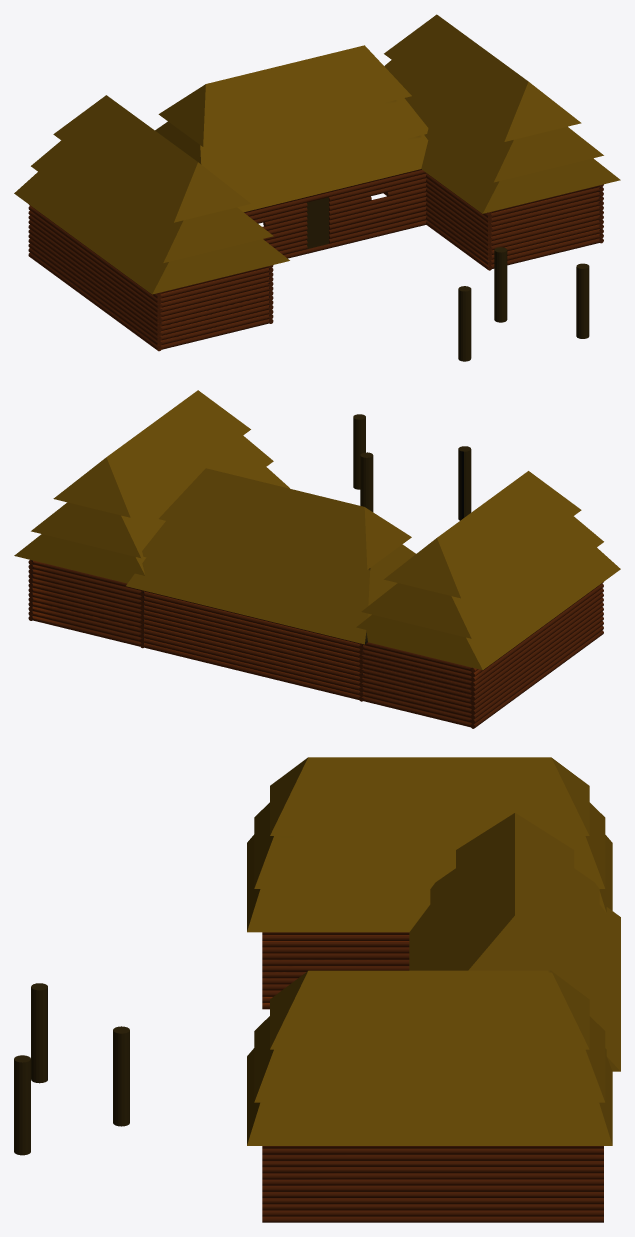
The model's file is barracks.fbx.
3 views of the same model, one above another, from view 1: azimuth 30°, elevation 25°; view 2: azimuth 150°, elevation 25°; view 3: azimuth 270°, elevation 25° (orthographic). The views are drawn at different scales.
Parts seen in each view (by area): view 1: Cylinder.001; view 2: Cylinder.001; view 3: Cylinder.001.
Boxes of the visible parts, x1,y1,x2,y2 form: Cylinder.001: [14, 14, 620, 361]; Cylinder.001: [14, 390, 620, 728]; Cylinder.001: [14, 757, 620, 1222].
Bounding box in the file's own units: 2100 × 697 × 1778.
